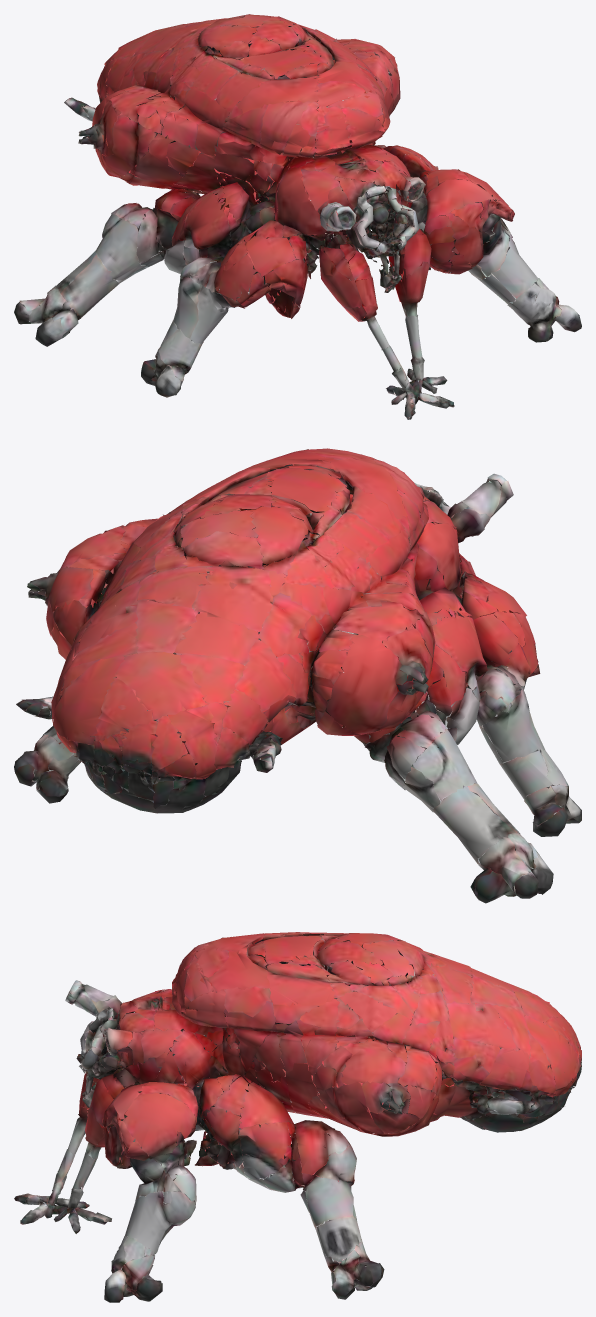
The model's file is Meshy_AI_fuchikoma_0913051043_texture.glb.
3 views of the same model, one above another, from view 1: azimuth 30°, elevation 25°; view 2: azimuth 150°, elevation 25°; view 3: azimuth 270°, elevation 25° (orthographic). The views are drawn at different scales.
Visible parts, largest first — view 1: Mesh_0; view 2: Mesh_0; view 3: Mesh_0.
Part boxes in pixels (left/top/right/bottom): Mesh_0: left=14, top=14, right=581, bottom=419; Mesh_0: left=14, top=448, right=581, bottom=903; Mesh_0: left=14, top=932, right=581, bottom=1302.
Size of the model in its own units: 1.78 by 1.05 by 2.
Materials: 1 (1 with a texture image).
